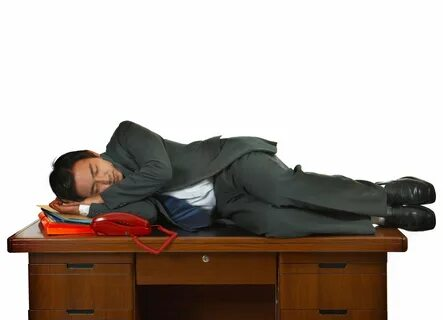sleep: (48, 120, 437, 239)
